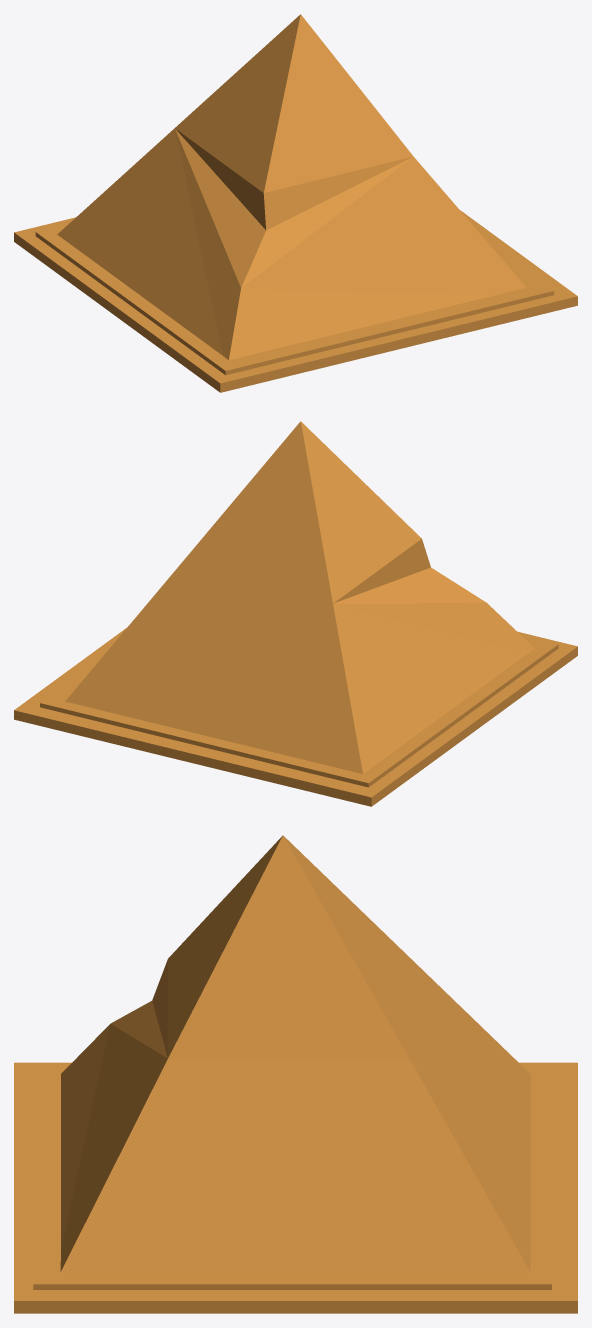
3 renders of one model, top to bottom at view 1: azimuth 30°, elevation 25°; view 2: azimuth 150°, elevation 25°; view 3: azimuth 270°, elevation 25°, orthographic. The views are drawn at different scales.
Visible parts, largest first — view 1: group155039981, group2045366865, group1729140674; view 2: group155039981, group2045366865, group1729140674; view 3: group155039981, group2045366865, group1729140674.
Boxes of the visible parts, box(x1,y1,x2,y2) form: group155039981: box(57, 14, 526, 360); group2045366865: box(14, 210, 577, 392); group1729140674: box(35, 224, 554, 375); group155039981: box(65, 421, 534, 773); group2045366865: box(14, 628, 577, 806); group1729140674: box(40, 635, 558, 787); group155039981: box(60, 835, 530, 1272); group2045366865: box(14, 1062, 577, 1313); group1729140674: box(33, 1065, 551, 1289).
Size of the model in its own units: 0.87 by 0.62 by 0.87.
